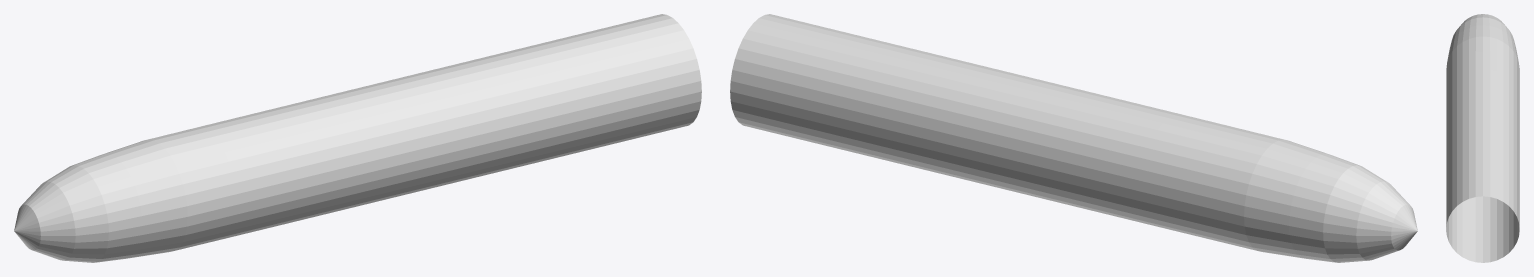
The model's file is cyl.glb.
3 views of the same model, side by side, from view 1: azimuth 30°, elevation 25°; view 2: azimuth 150°, elevation 25°; view 3: azimuth 270°, elevation 25° (orthographic). The views are drawn at different scales.
Parts seen in each view (by area): view 1: 柱体.002; view 2: 柱体.002; view 3: 柱体.002.
Part boxes in pixels (x1,y1,x2,y2): 柱体.002: [14, 14, 701, 262]; 柱体.002: [730, 14, 1417, 262]; 柱体.002: [1446, 14, 1519, 262].
Size of the model in its own units: 20.98 by 3.18 by 3.18.
1 material, 1 textured.
